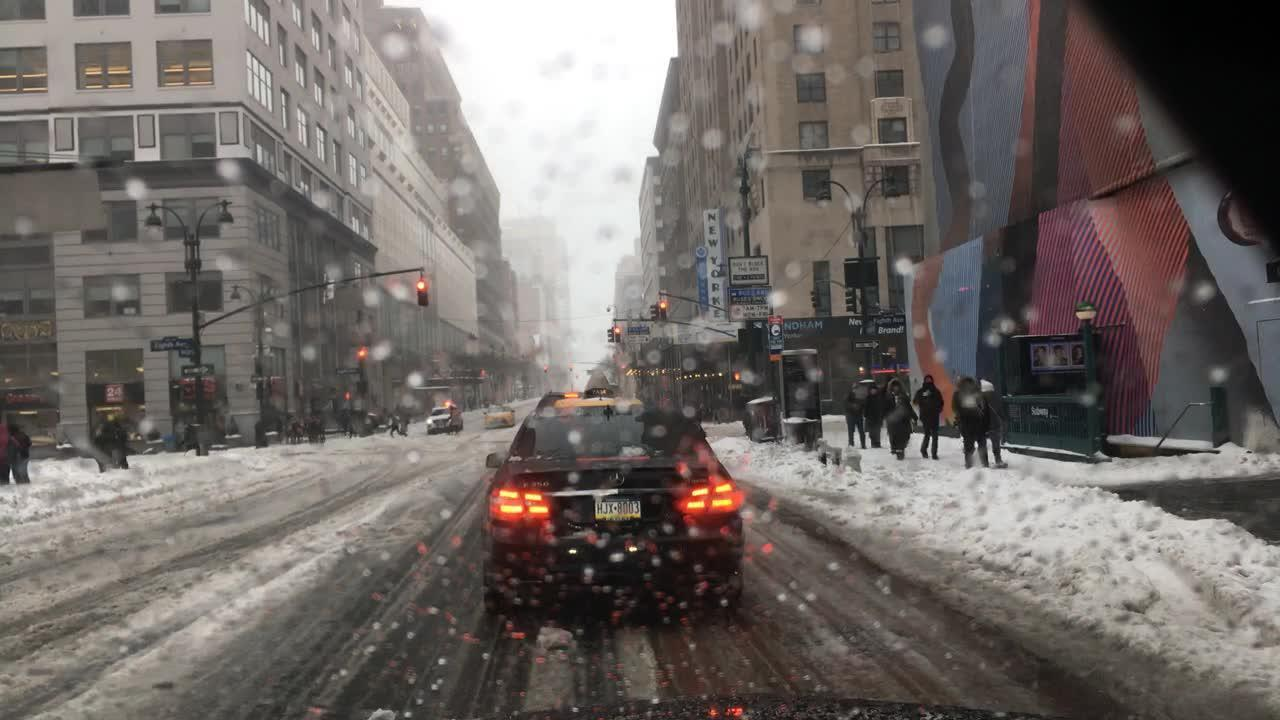Mercedes: (605, 469, 630, 490)
